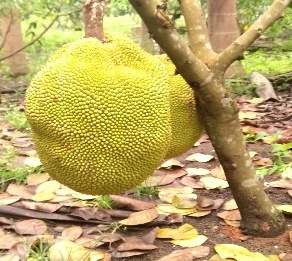Mit: (25, 39, 202, 197)
